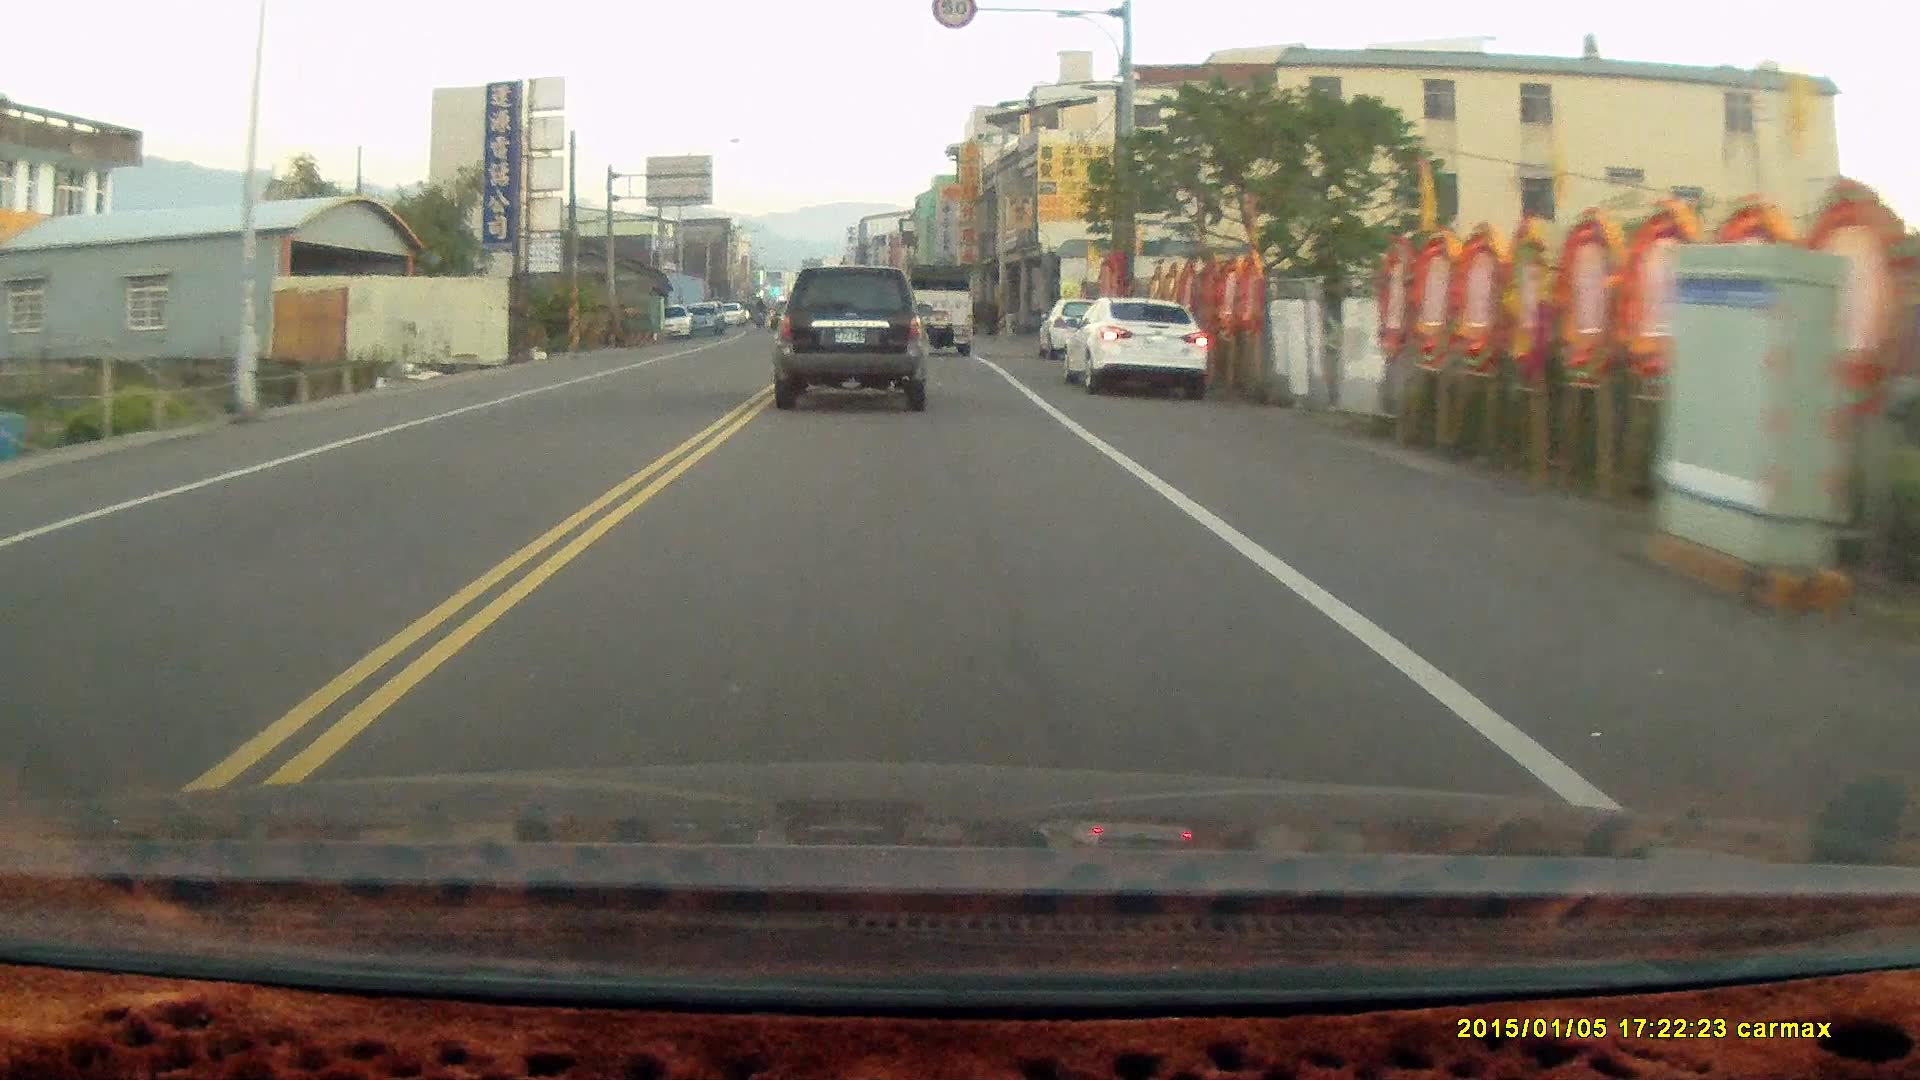vehicle: (771, 262, 934, 413), (1065, 295, 1205, 400), (905, 262, 978, 363)
